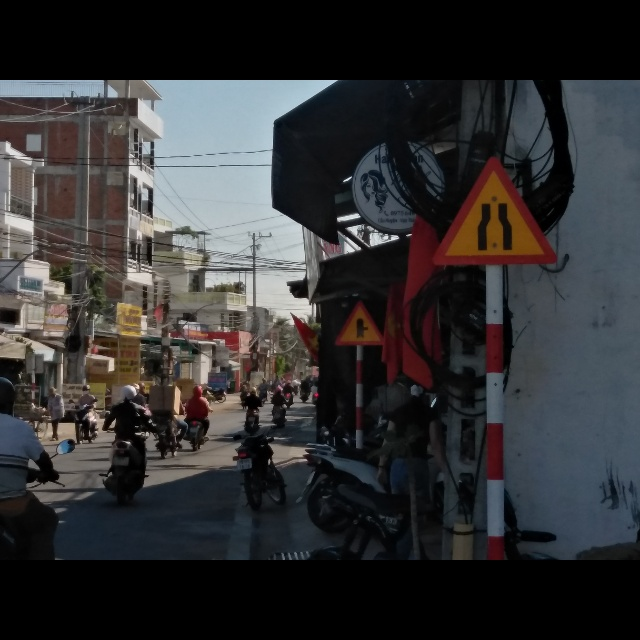Giao nhau với đường không ưu tiên: (336, 299, 384, 345)
Đường bị hẹp cả hai bên: (430, 152, 560, 266)
